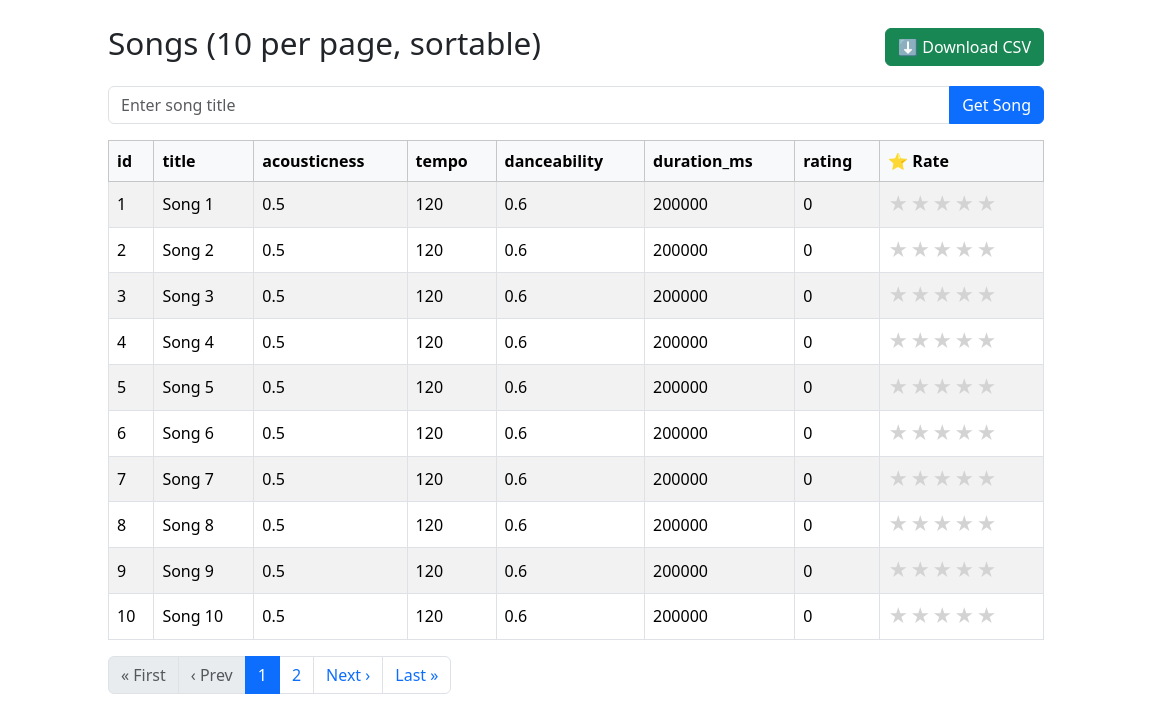
App Component › pagination works
Check: the text "Song 1" is shown, box [154, 181, 254, 227]
# go to page 2
Click the button "Next ›" at (348, 675), box [313, 656, 383, 694]
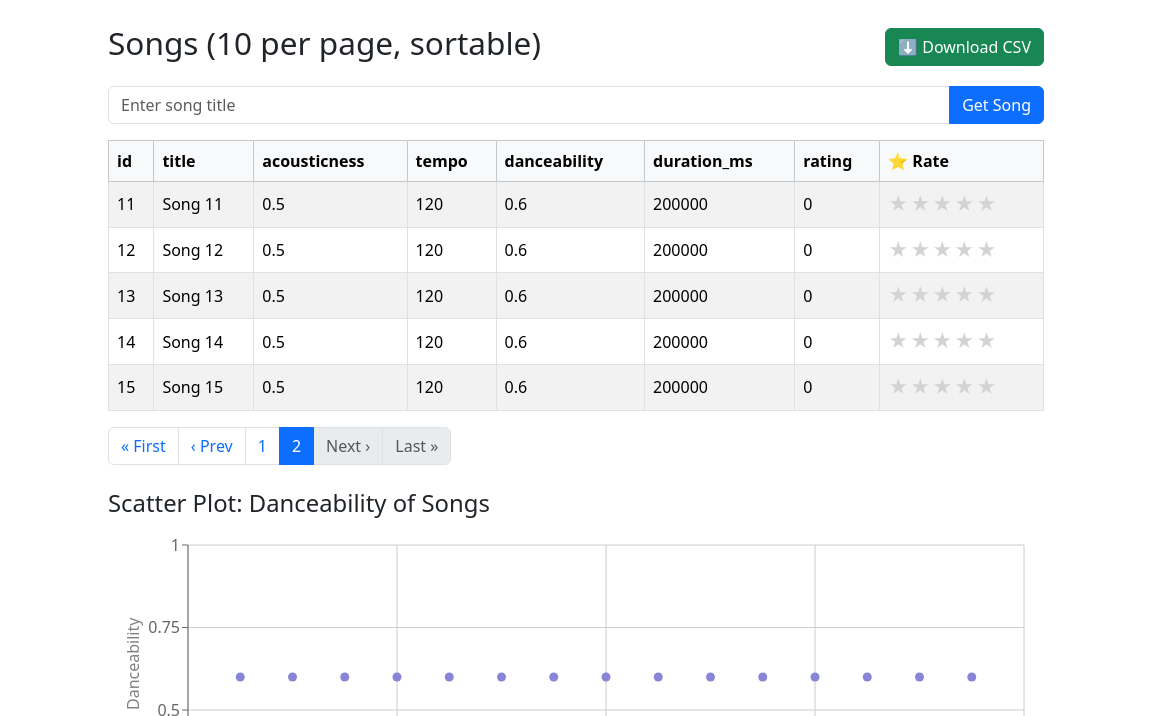
Check: the text "Song 11" is shown, box [154, 181, 254, 227]
